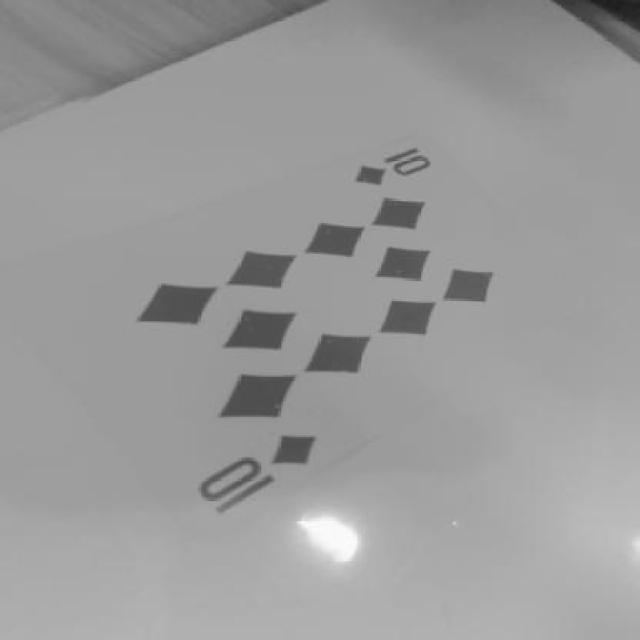10D: (177, 422, 326, 523), (342, 140, 464, 202)
